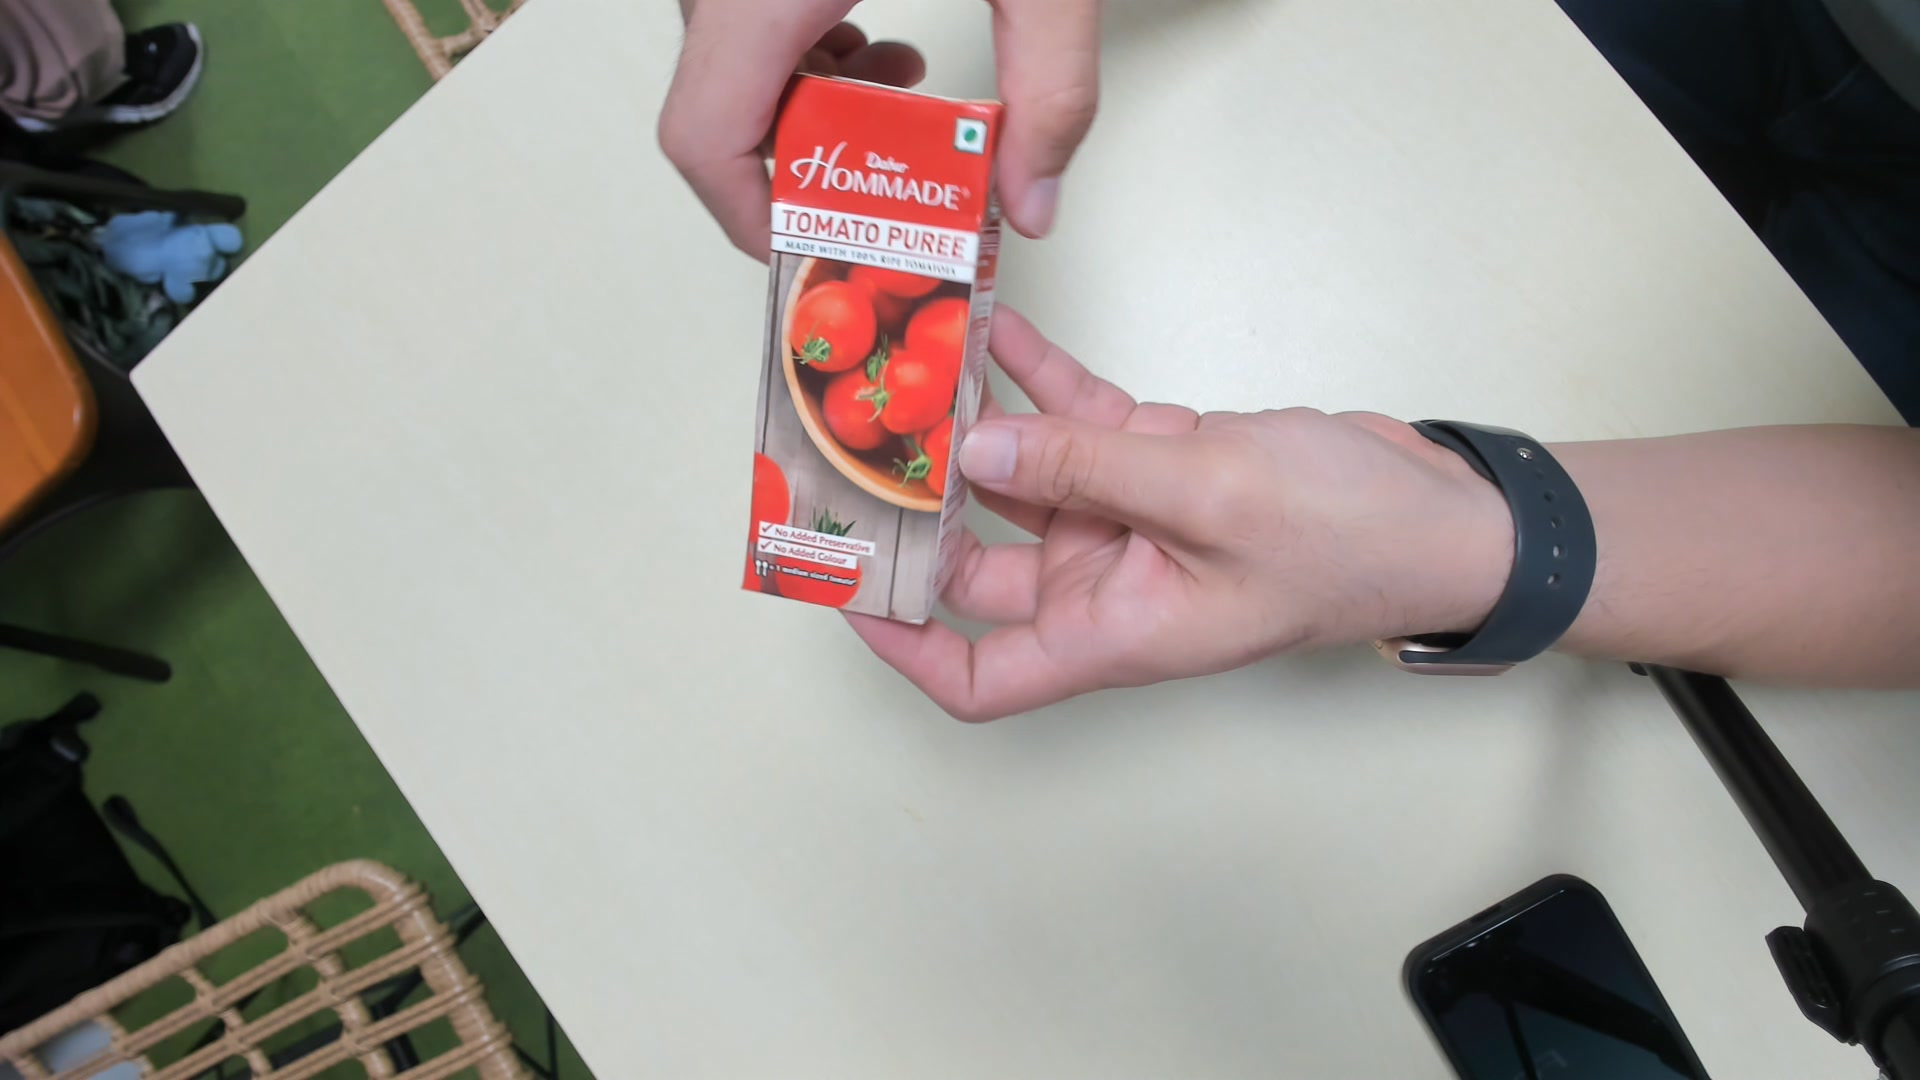OtherSauceDressing_200-299g_NonHalal_NonHealthy: (736, 75, 1006, 633)
